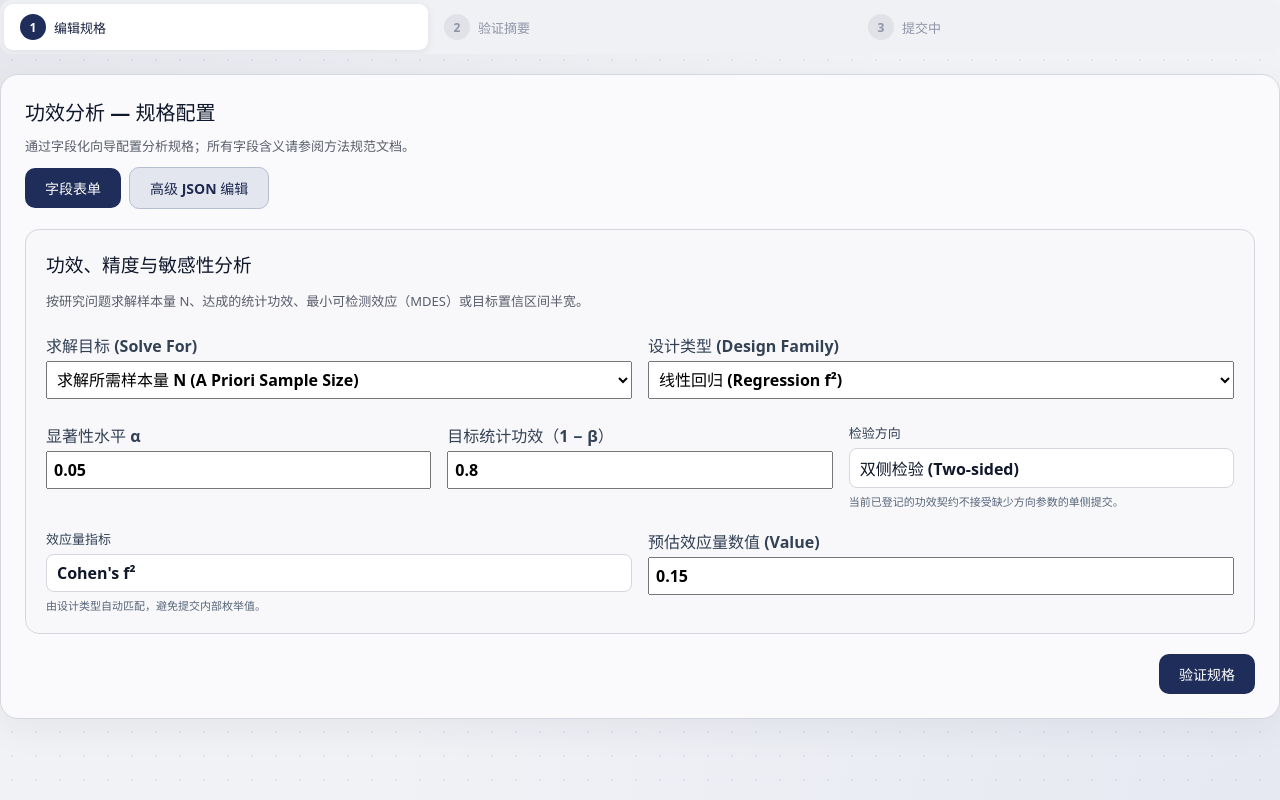
AnalysisWizard › validates spec and moves to validation summary
The image size is (1280, 800).
Click the button "验证规格" at point(1207, 674), box [1159,654,1255,694]
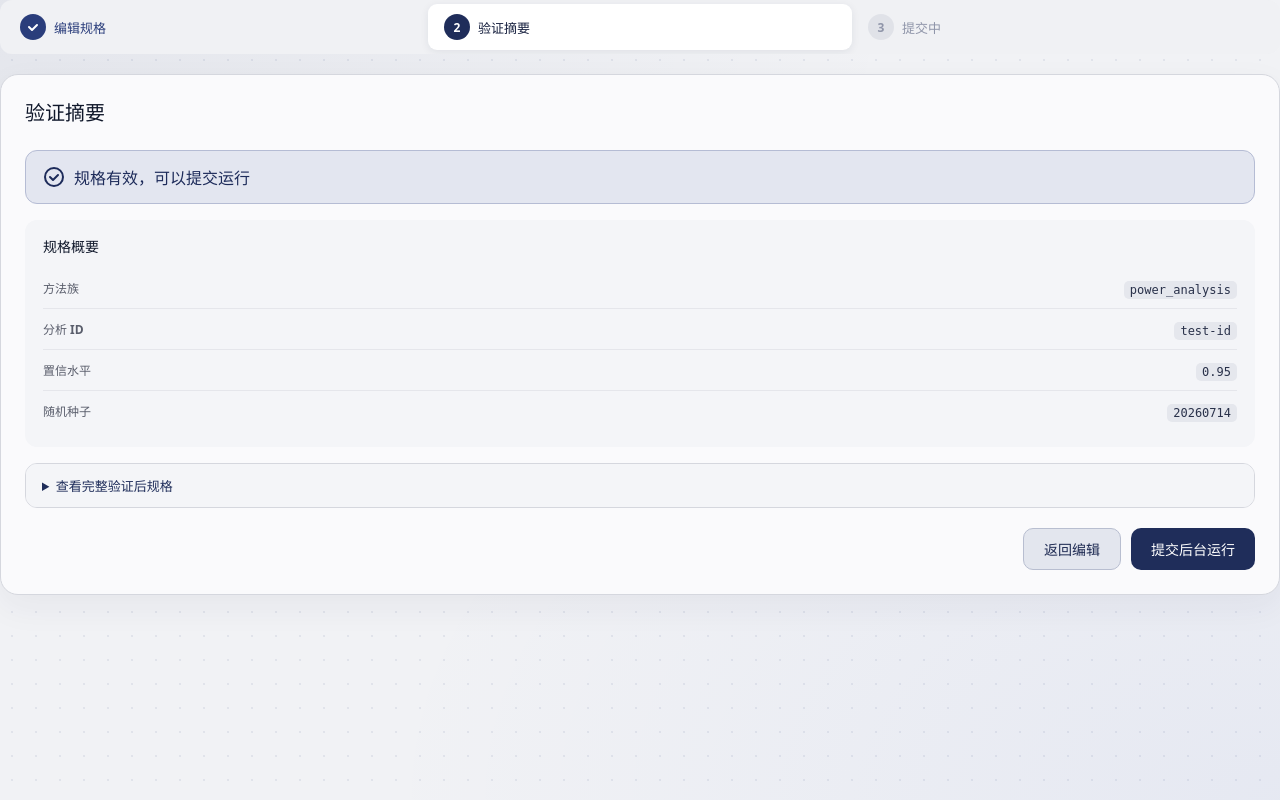
Expected: the text "验证摘要" is shown, [478,18,530,36]
Expected: the text "规格有效，可以提交运行" is shown, [74,165,250,189]
